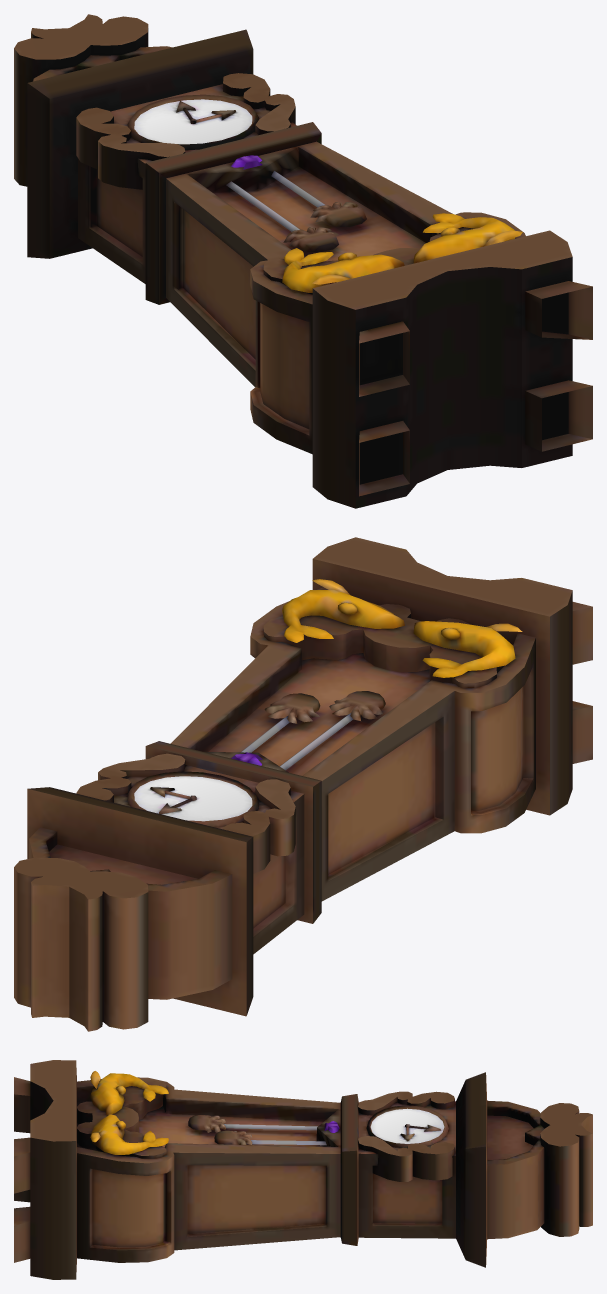
File: Clock.fbx
3 renders of one model, top to bottom at view 1: azimuth 30°, elevation 25°; view 2: azimuth 150°, elevation 25°; view 3: azimuth 270°, elevation 25°, orthographic. The views are drawn at different scales.
Visible parts, largest first — view 1: Clock; view 2: Clock; view 3: Clock.
Boxes of the visible parts, x1,y1,x2,y2 form: Clock: (14, 14, 592, 508); Clock: (14, 537, 592, 1031); Clock: (14, 1060, 592, 1279).
Size of the model in its own units: 79.52 by 59.77 by 227.
